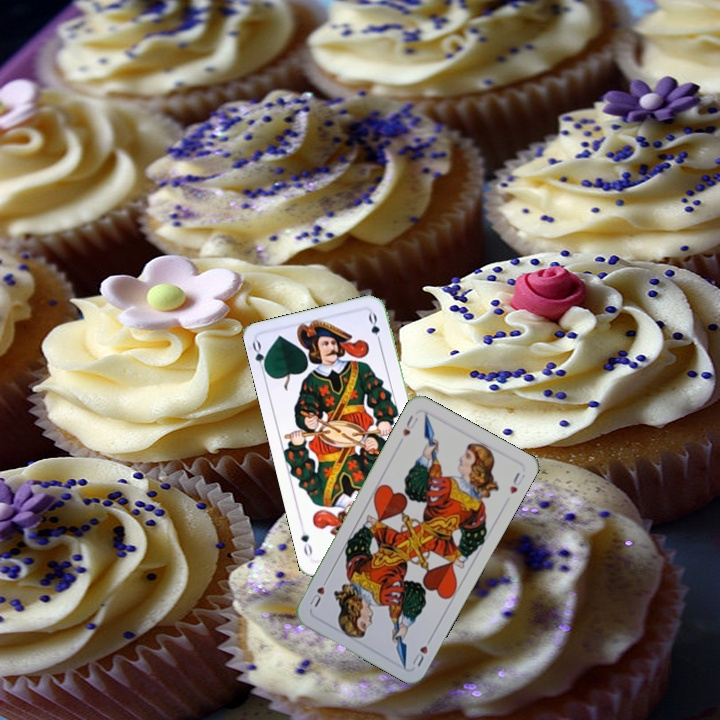GO: (248, 337, 271, 377)
HU: (408, 632, 435, 669), (398, 411, 421, 439)
